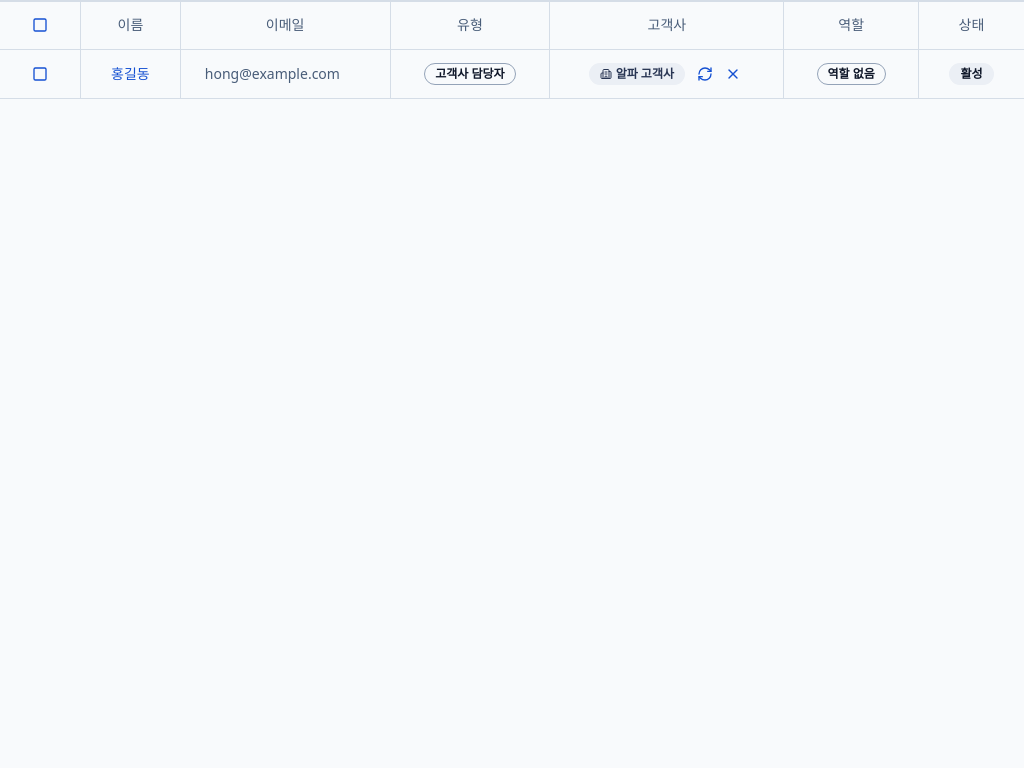
UserTable — 소속 고객사 변경/해제 › 해제가 도는 동안 변경 버튼도 함께 잠긴다
Click the button named "홍길동 고객사 소속 해제". click: point(733, 74)
box: [721,62,745,86]
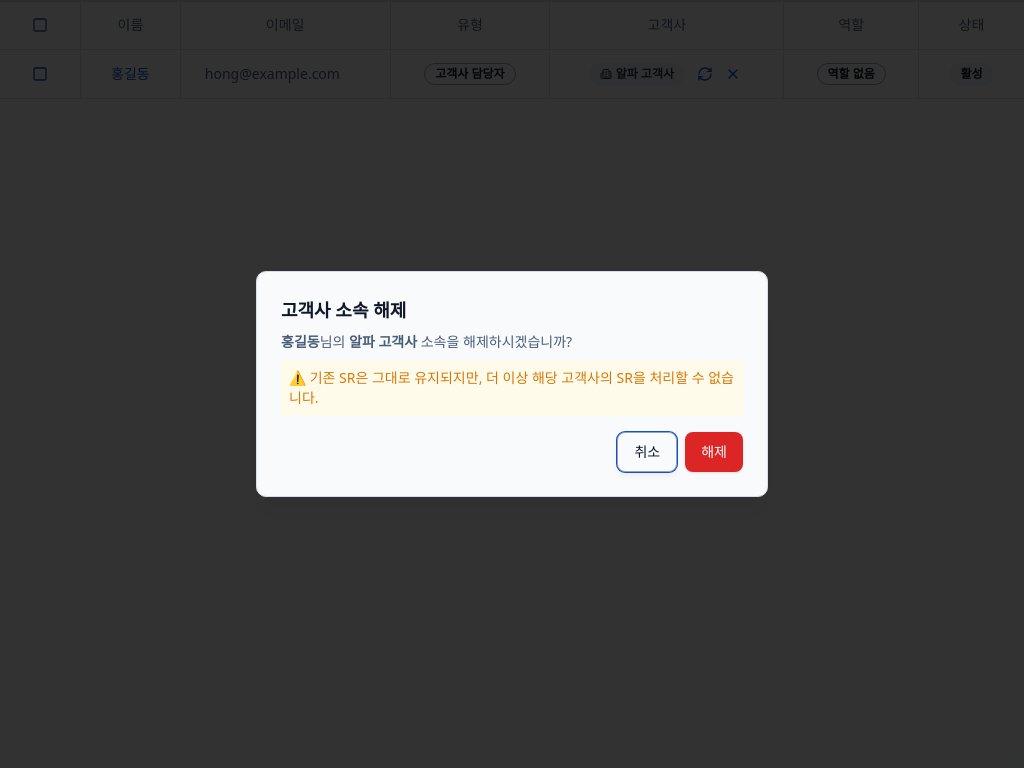
Click the button "해제". click: point(714, 452)
box: [685,432,743,472]
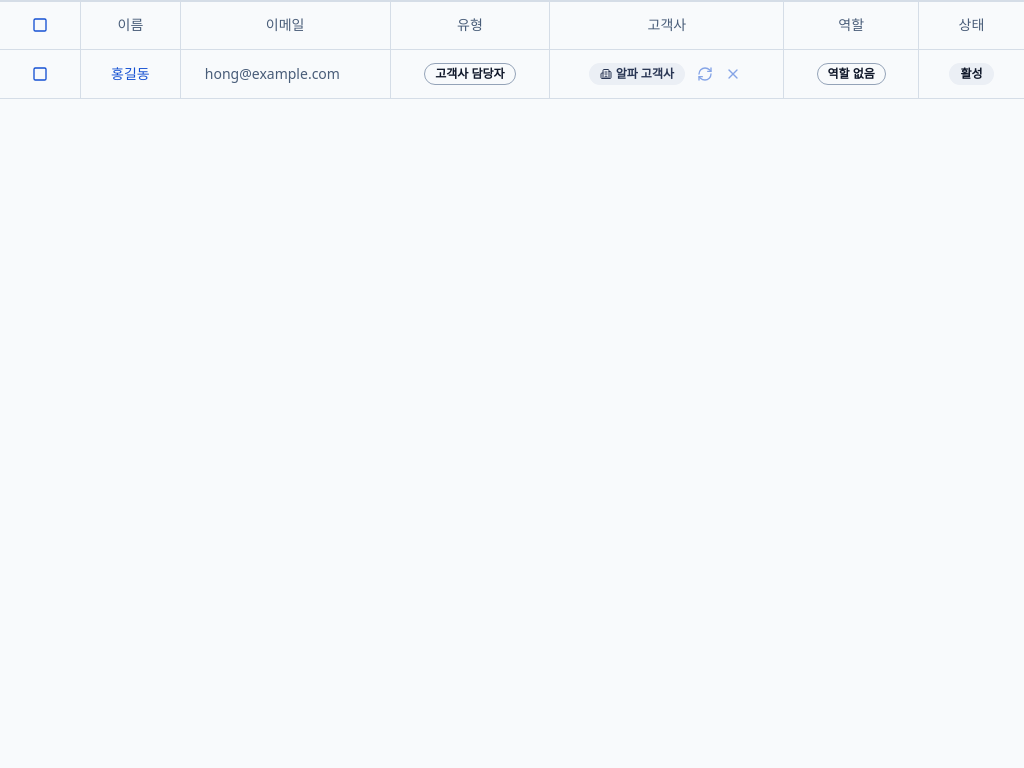
expect the button named "홍길동 고객사 변경" is disabled: met, box [693,62,717,86]
expect the button named "홍길동 고객사 소속 해제" is disabled: met, box [721,62,745,86]
